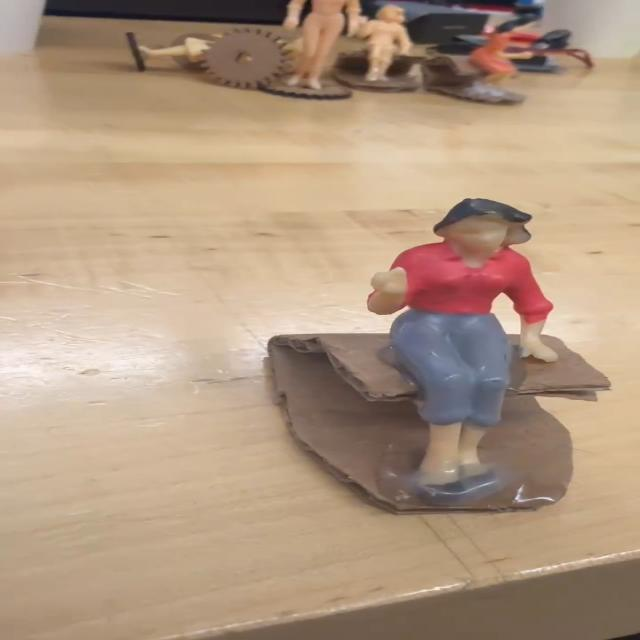Authorized: (344, 184, 578, 531)
